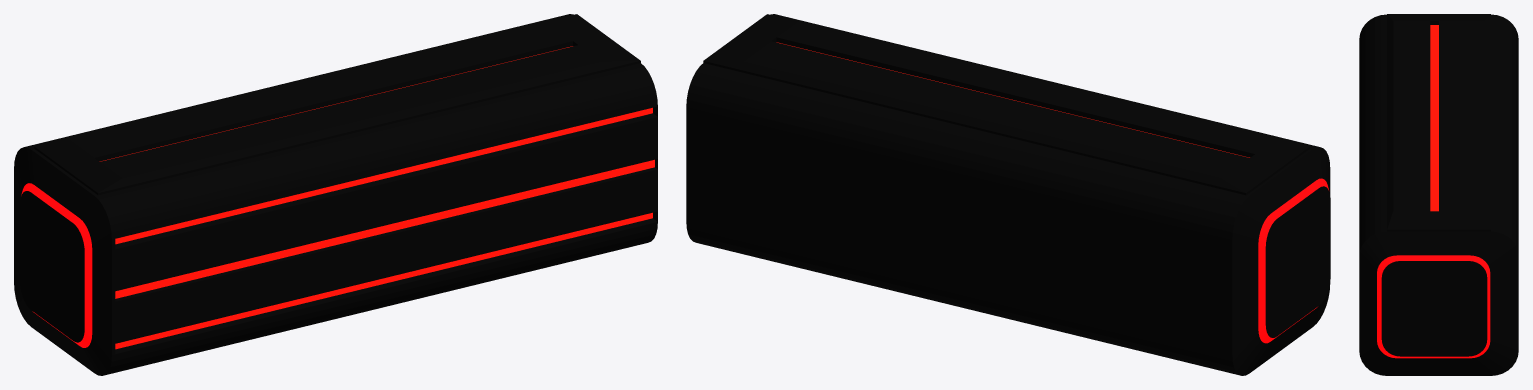
The model's file is PaddleRed.glb.
3 views of the same model, side by side, from view 1: azimuth 30°, elevation 25°; view 2: azimuth 150°, elevation 25°; view 3: azimuth 270°, elevation 25° (orthographic). The views are drawn at different scales.
Visible parts, largest first — view 1: Paddle; view 2: Paddle; view 3: Paddle.
Part boxes in pixels (x1,y1,x2,y2): Paddle: [14, 14, 657, 375]; Paddle: [686, 14, 1330, 375]; Paddle: [1359, 14, 1518, 375].
Size of the model in its own units: 6.76 by 2.08 by 2.
